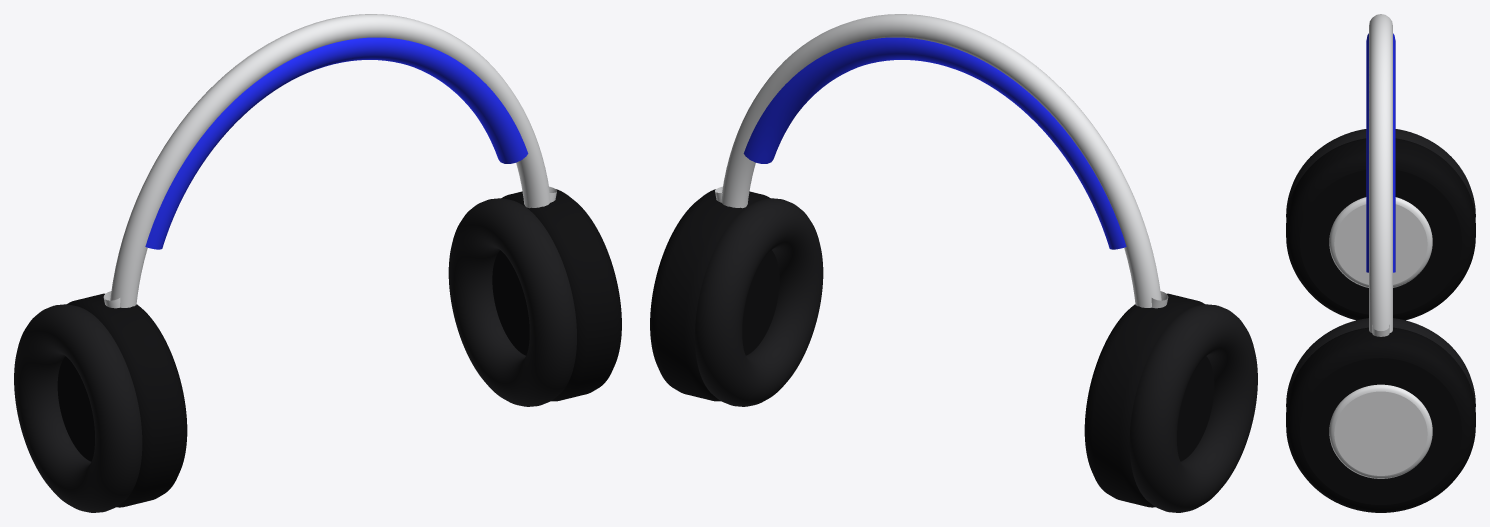
Rendered from headphones.glb.
The picture shows the model from 3 angles, left to right: view 1: azimuth 30°, elevation 25°; view 2: azimuth 150°, elevation 25°; view 3: azimuth 270°, elevation 25°; orthographic projection. The views are drawn at different scales.
Visible parts, largest first — view 1: hp_pad.001, hp_pad, hp_band, hp_cup, hp_cup.001, hp_cushion; view 2: hp_pad.001, hp_pad, hp_band, hp_cup, hp_cup.001, hp_cushion; view 3: hp_cup.001, hp_cup, hp_cap.001, hp_band, hp_cap, hp_pad.001, hp_pad, hp_cushion.
Part boxes in pixels (<box>): hp_pad.001: <box>448,198,576,406</box>; hp_pad: <box>14,304,142,512</box>; hp_band: <box>110,14,550,307</box>; hp_cup: <box>57,293,187,507</box>; hp_cup.001: <box>492,189,621,401</box>; hp_cushion: <box>145,37,528,249</box>; hp_pad.001: <box>695,198,823,406</box>; hp_pad: <box>1129,304,1257,512</box>; hp_band: <box>721,14,1161,307</box>; hp_cup: <box>1084,293,1214,507</box>; hp_cup.001: <box>650,189,779,401</box>; hp_cushion: <box>743,37,1126,249</box>; hp_cup.001: <box>1286,327,1475,512</box>; hp_cup: <box>1286,138,1475,320</box>; hp_cap.001: <box>1329,384,1432,478</box>; hp_band: <box>1369,14,1392,332</box>; hp_cap: <box>1329,197,1432,287</box>; hp_pad.001: <box>1286,318,1475,406</box>; hp_pad: <box>1286,129,1475,216</box>; hp_cushion: <box>1366,33,1395,272</box>.
Bounding box in the file's own units: 3.12 × 2.42 × 1.1.
